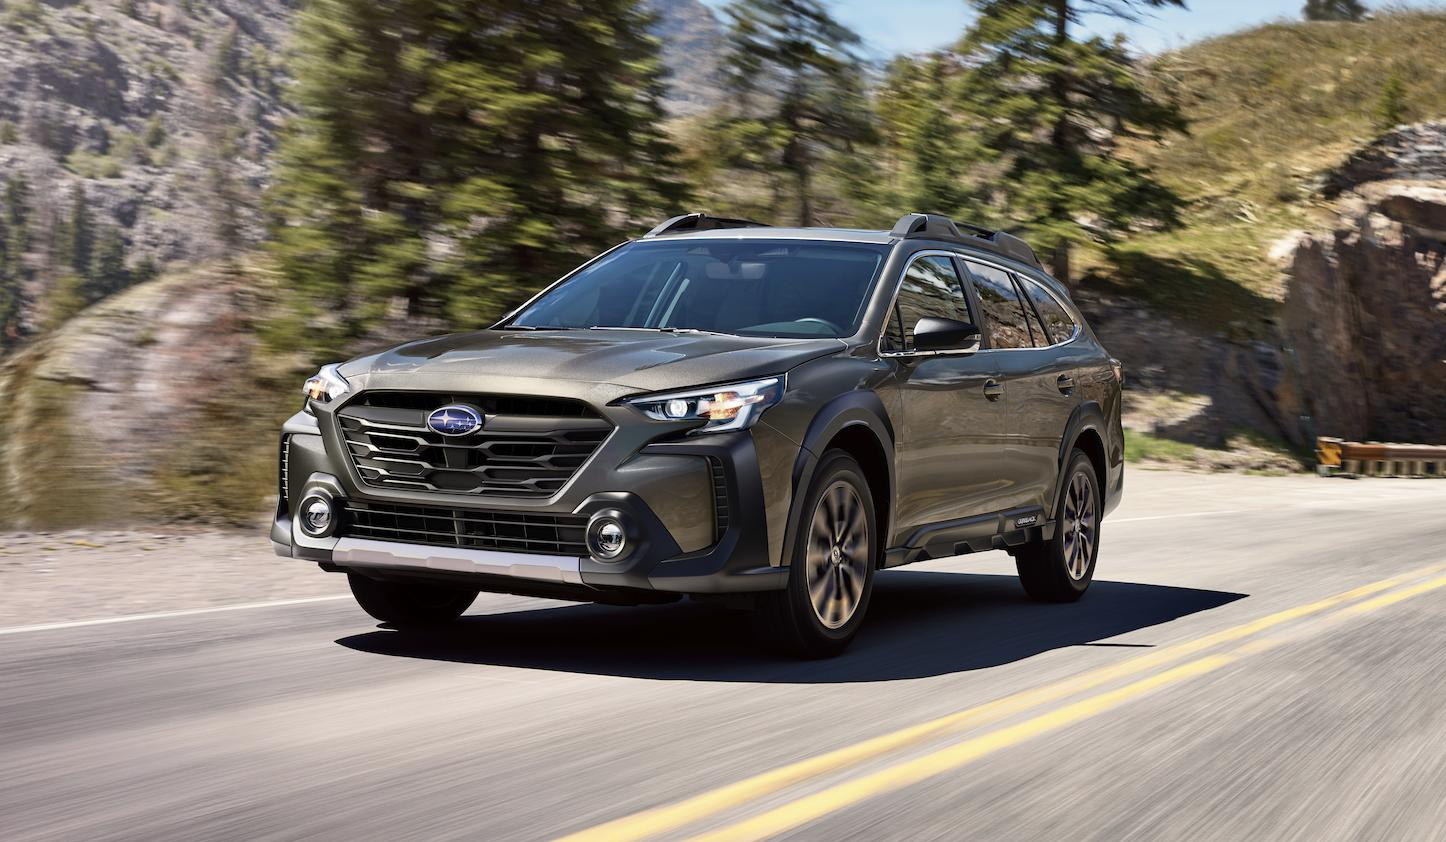subaru: (424, 394, 497, 451)
